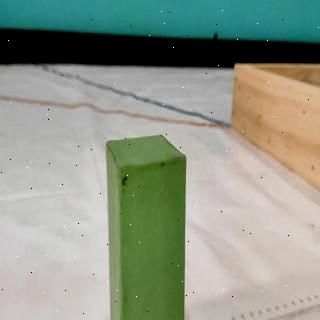greenbox: (104, 132, 188, 320)
